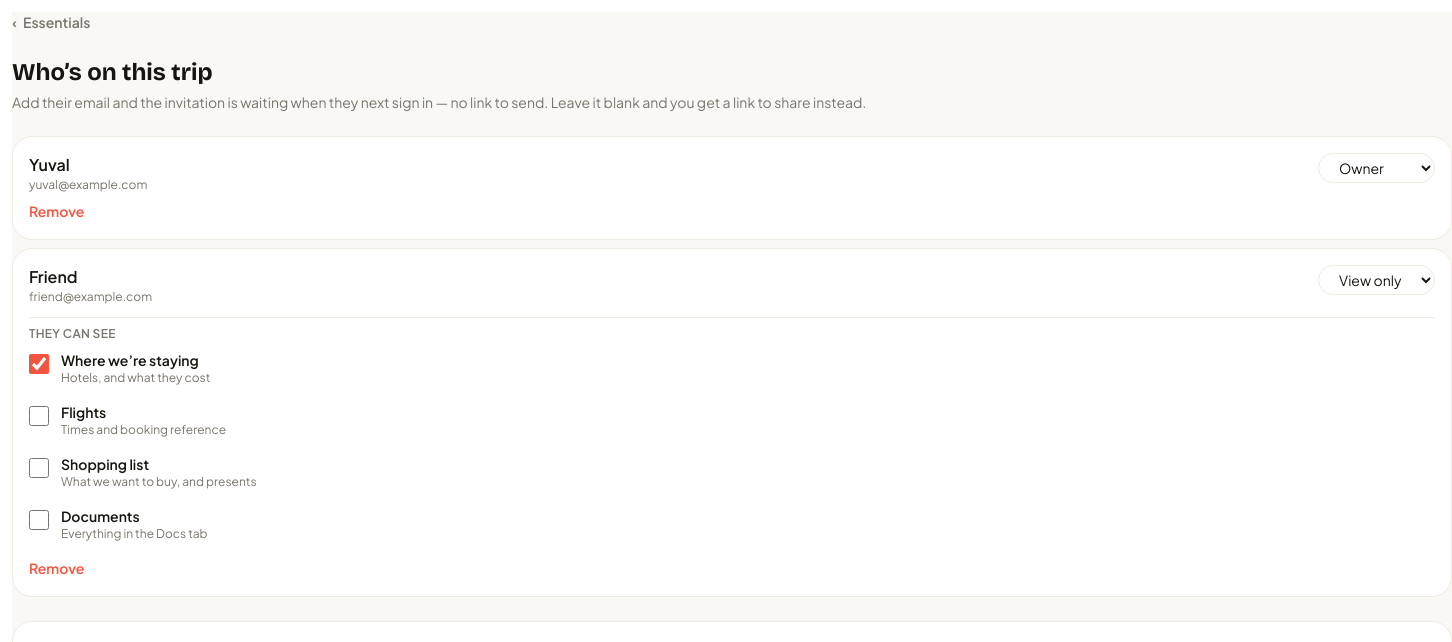
Test: the roster adapts to your role › keeps the edit and says why when the server refuses it
Check: the text "Yuval" is shown, box [29, 154, 70, 175]
Select "View only" in the dropdown named "Access for Yuval" at (1376, 168), box [1318, 153, 1435, 183]
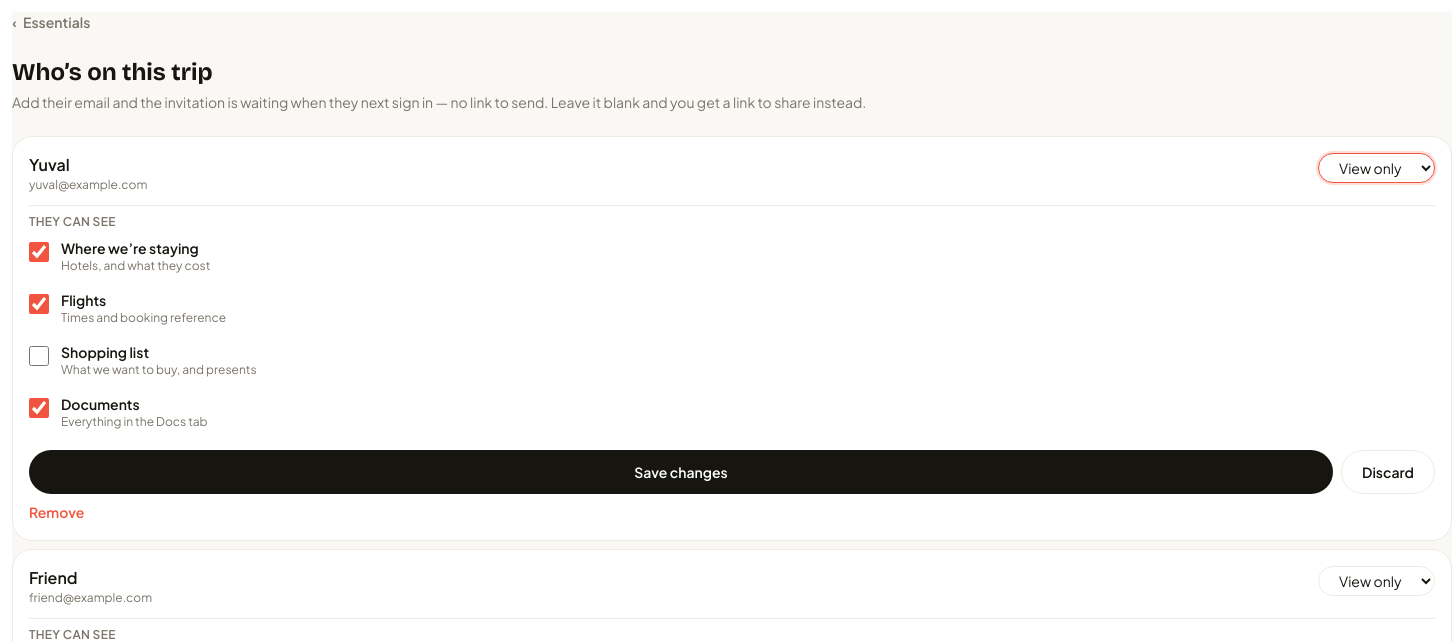
Click the button "Save changes".
click(681, 472)  # box [29, 450, 1333, 494]
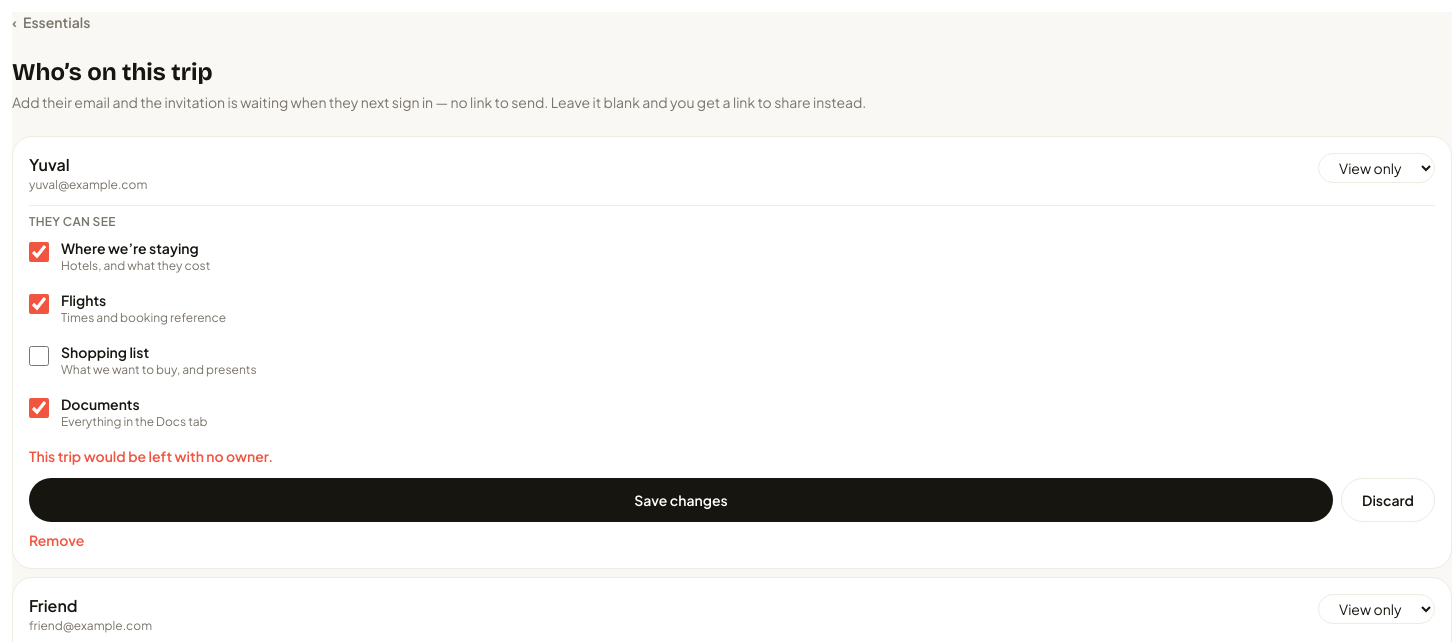
Check: the button "Discard" is shown, box [1341, 478, 1435, 522]
Check: the text "This trip would be left with no owner." is shown, box [29, 447, 273, 465]
